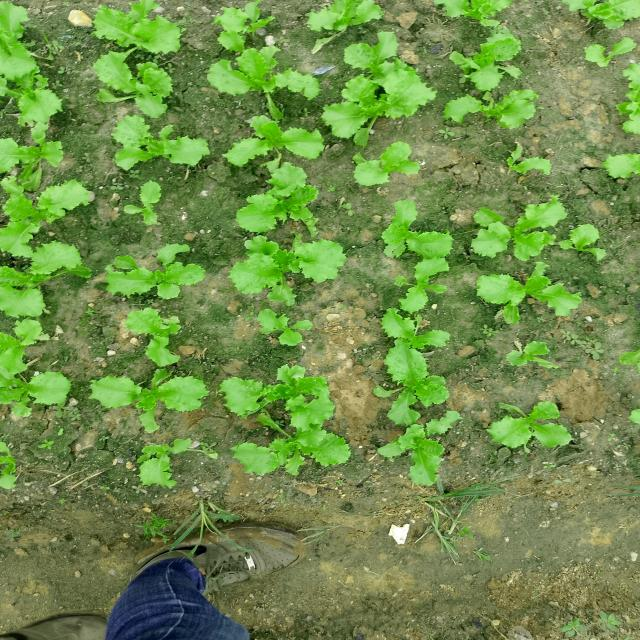Lettuce: (220, 229, 348, 307), (229, 395, 346, 478), (84, 366, 212, 433), (330, 41, 432, 125), (369, 404, 467, 484), (206, 46, 320, 112), (0, 85, 74, 182), (86, 0, 192, 67), (468, 200, 591, 253), (109, 114, 217, 174), (92, 242, 204, 297), (232, 161, 320, 228), (0, 185, 93, 243), (478, 268, 577, 321), (369, 318, 456, 376), (437, 33, 518, 92), (0, 252, 75, 315), (433, 78, 545, 120), (0, 324, 58, 404), (385, 256, 458, 316), (370, 205, 445, 257), (124, 308, 184, 369), (433, 0, 523, 39), (296, 0, 386, 38), (491, 403, 571, 444), (341, 142, 412, 184), (485, 144, 556, 181), (560, 0, 640, 31), (0, 0, 31, 75), (611, 60, 640, 135)
